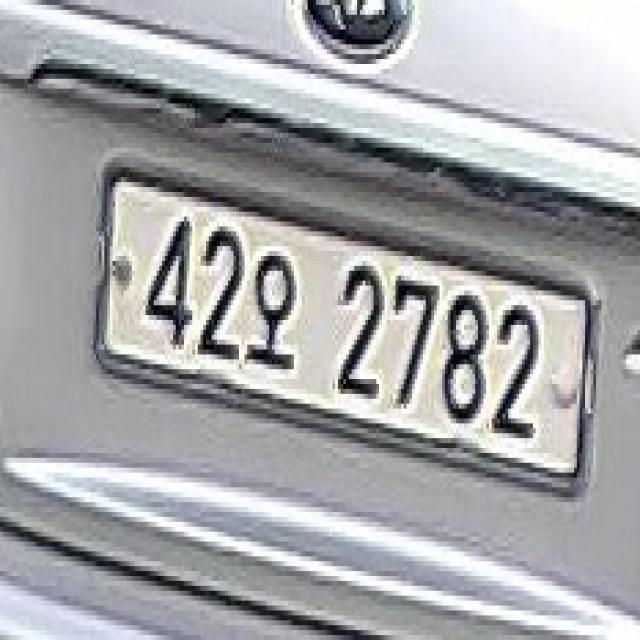plat: (1, 1, 638, 637), (91, 150, 594, 492)
